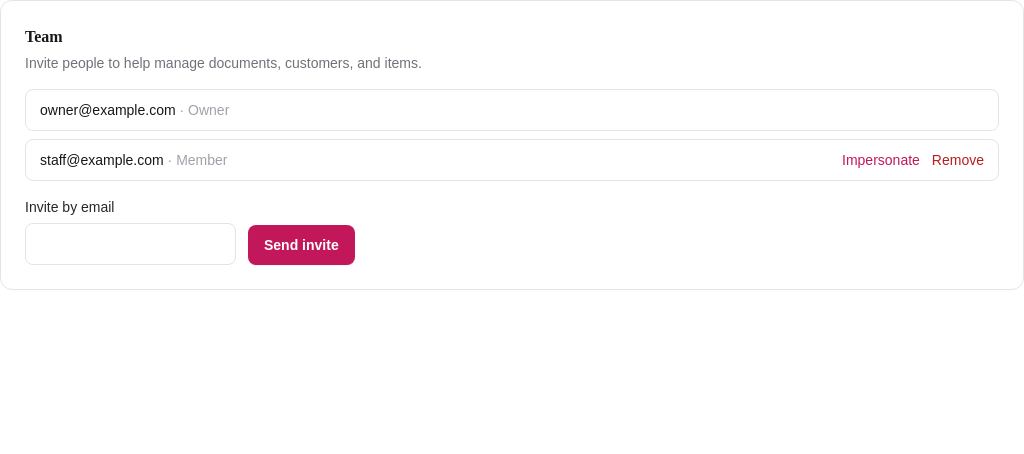
TeamSection › shows the member list, pending invites, and lets the owner send a new invite
Expected: the text "owner@example.com" is shown, left=40, top=102, right=176, bottom=118
Expected: the text "staff@example.com" is shown, left=40, top=152, right=164, bottom=168
Type "new@example.com" into the field labelled "Invite by email" at (130, 244), box left=25, top=223, right=236, bottom=265
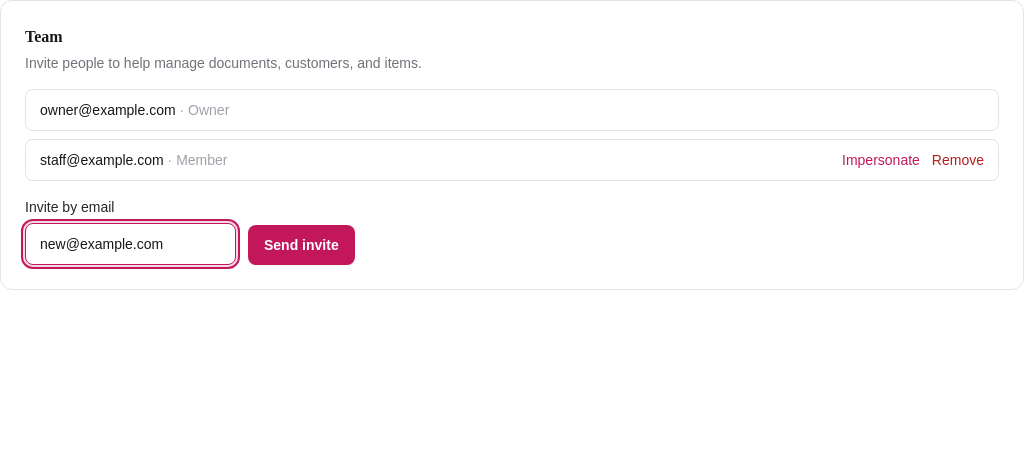
Click the button "Send invite" at (301, 245), box left=248, top=225, right=355, bottom=265
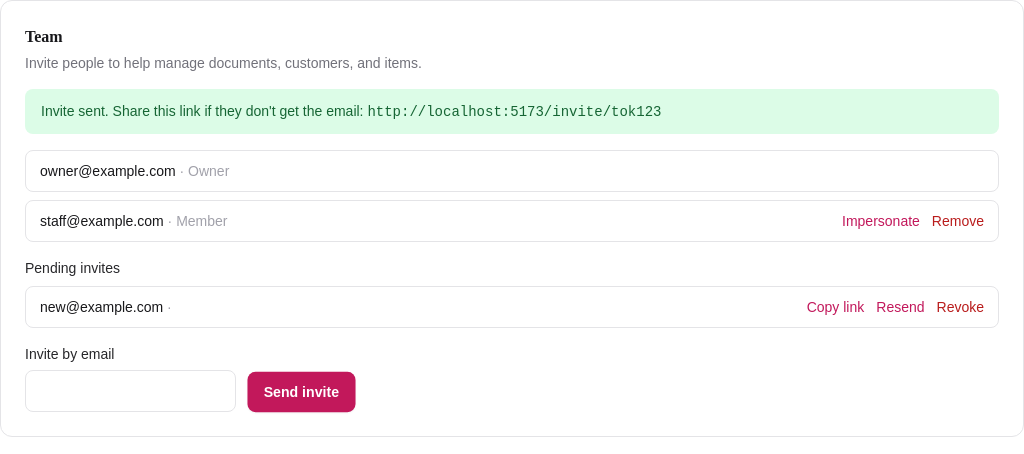
Now the text "http://localhost:5173/invite/tok123" is shown, box left=367, top=104, right=662, bottom=120
